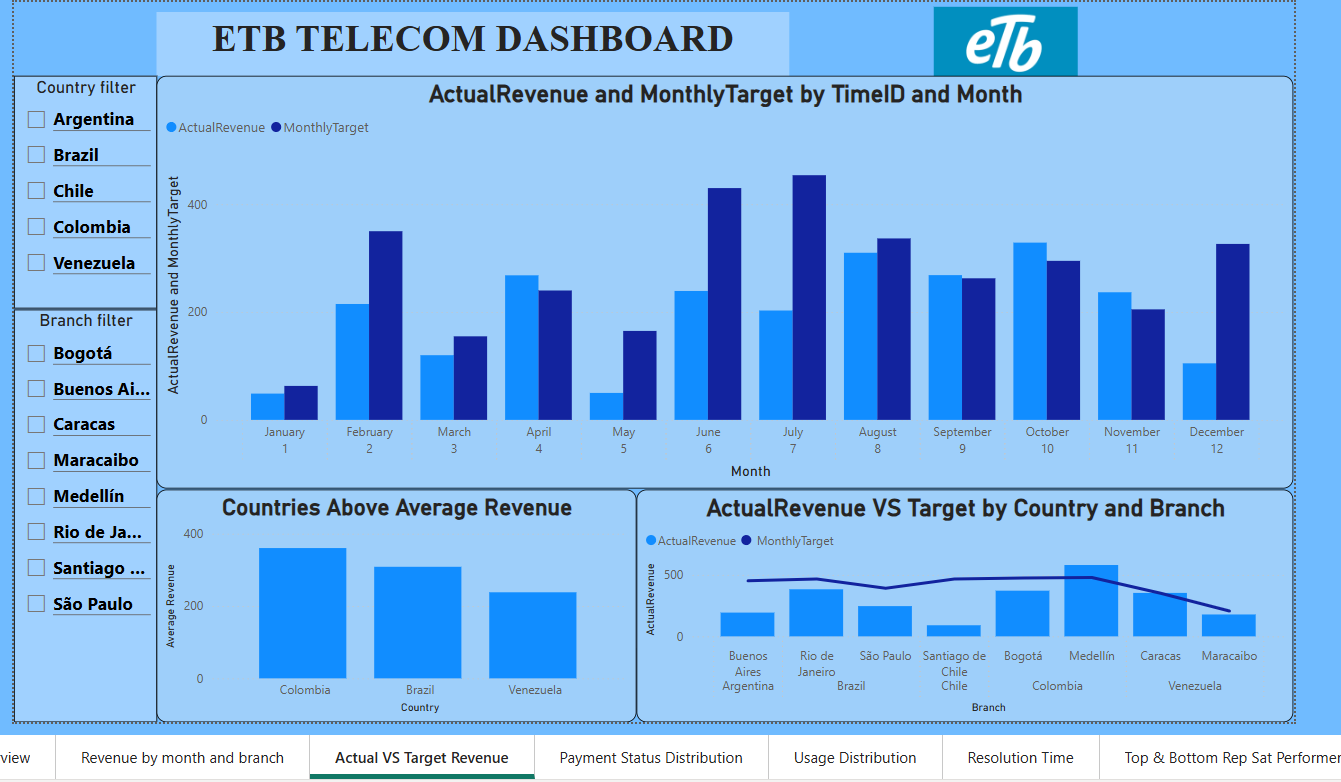

The dashboard page shown, as its layout file describes it:
{"tool":"powerbi","page":{"name":"Actual VS Target Revenue","canvas":[1280,720],"ordinal":2},"visuals":[{"type":"textbox","box":[142.9,10,632.9,64.3],"z":0},{"type":"image","box":[704.3,0,575.7,81.4],"z":1000},{"type":"slicer","title":"Country filter","fields":{"Values":["Countries.CountryName"]},"box":[0,74.3,142.9,232.9],"z":2000},{"type":"slicer","title":"Branch filter","fields":{"Values":["Branches.BranchName"]},"box":[0,307.1,142.9,412.9],"z":3000},{"type":"lineClusteredColumnComboChart","fields":{"Category":["Revenue by plan.TimeID","Revenue by plan.Month"],"Y":["Sum(Revenue by plan.ActualRevenue)","Sum(Revenue by plan.MonthlyTarget)"]},"box":[142.9,74.3,1137.1,412.9],"z":4000},{"type":"lineClusteredColumnComboChart","title":"ActualRevenue VS Target by Country and Branch","fields":{"Category":["Countries.CountryName","Branches.BranchName"],"Y":["Sum(Revenue by plan.ActualRevenue)"],"Y2":["Sum(Revenue by plan.MonthlyTarget)"]},"box":[622.9,487.1,657.1,232.9],"z":5000},{"type":"lineClusteredColumnComboChart","title":"Countries Above Average Revenue","fields":{"Y":["Sum(Branches With Above-Average Revenue.TotalRevenue)"],"Category":["Countries.CountryName"]},"box":[142.9,487.1,480,232.9],"z":6000}]}

Visuals, with their boxes on the page's 1280x720 design canvas (x1, y1, x2, y2). These are canvas units, not pixel positions in the 1341x782 screenshot, which may show the page scaled, cropped or inside an application window:
textbox: <bbox>143, 10, 776, 74</bbox>
image: <bbox>704, 0, 1280, 81</bbox>
"Country filter" slicer: <bbox>0, 74, 143, 307</bbox>
"Branch filter" slicer: <bbox>0, 307, 143, 720</bbox>
lineClusteredColumnComboChart - Revenue by plan.TimeID x Revenue by plan.Month: <bbox>143, 74, 1280, 487</bbox>
"ActualRevenue VS Target by Country and Branch" lineClusteredColumnComboChart: <bbox>623, 487, 1280, 720</bbox>
"Countries Above Average Revenue" lineClusteredColumnComboChart: <bbox>143, 487, 623, 720</bbox>
